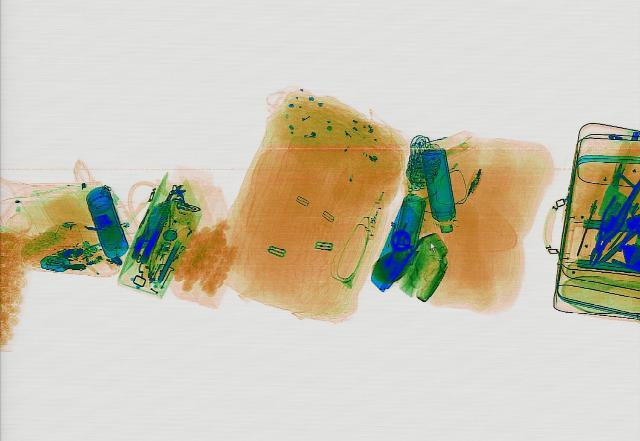Pliers: (578, 194, 634, 267)
